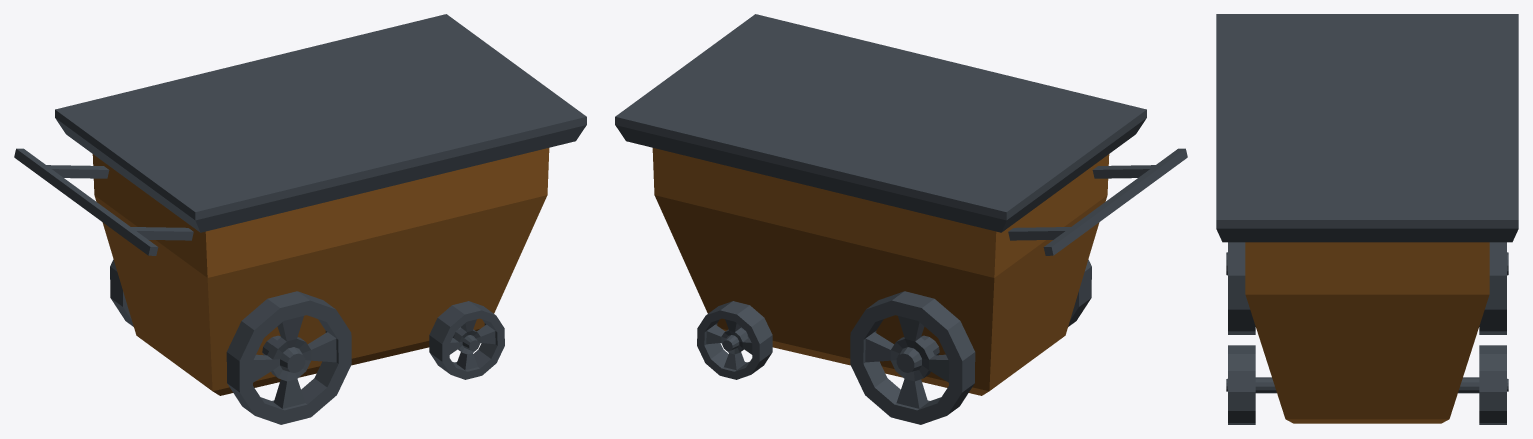
The model's file is HotDogWagen_GameJamAssets.fbx.
The picture shows the model from 3 angles, left to right: view 1: azimuth 30°, elevation 25°; view 2: azimuth 150°, elevation 25°; view 3: azimuth 270°, elevation 25°; orthographic projection. The views are drawn at different scales.
Visible parts, largest first — view 1: Cylinder.003; view 2: Cylinder.003; view 3: Cylinder.003.
Part boxes in pixels (box(x1,y1,x2,y2)): Cylinder.003: box(14, 14, 586, 424); Cylinder.003: box(615, 14, 1187, 424); Cylinder.003: box(1216, 14, 1518, 424).
Bounding box in the file's own units: 151 × 79.05 × 84.17.
